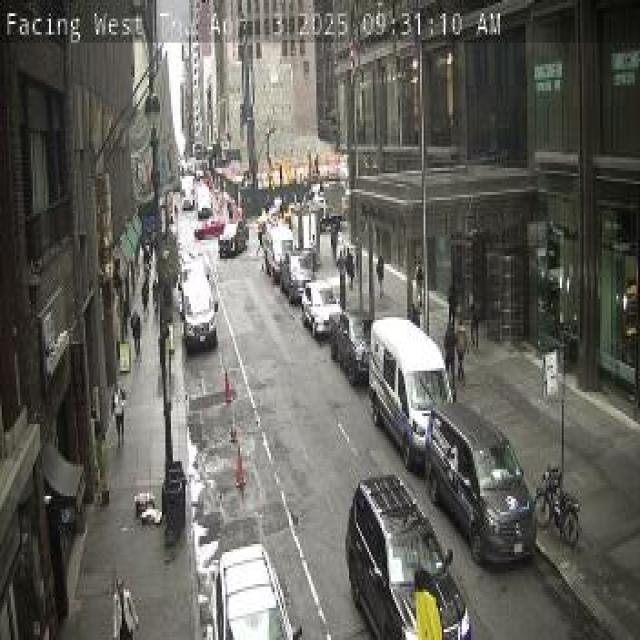open parking: (164, 306, 302, 640), (449, 482, 640, 640)
